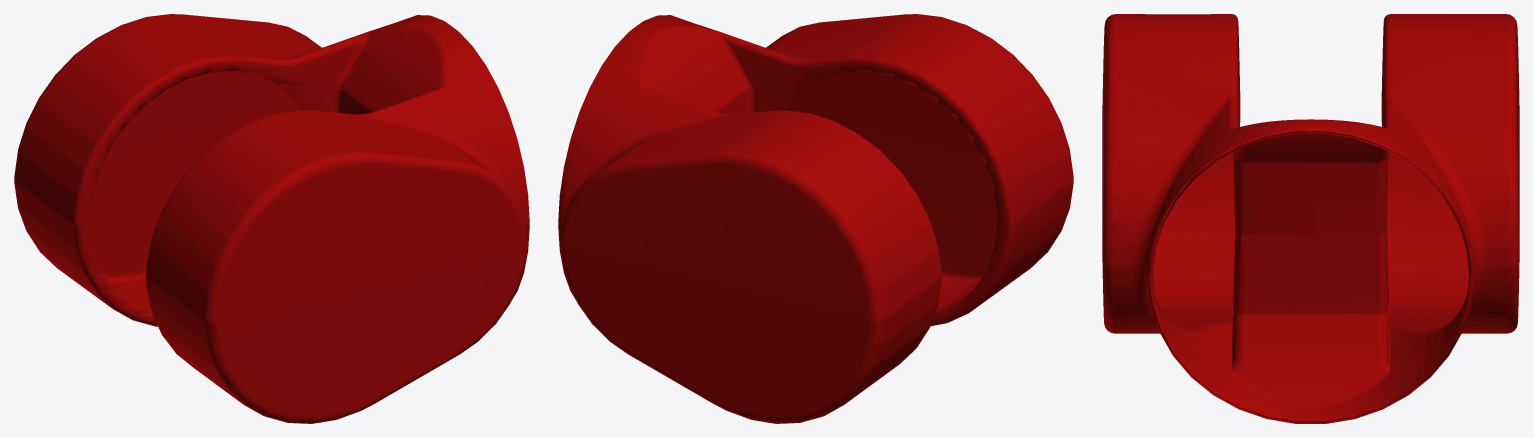
3 views of the same model, side by side, from view 1: azimuth 30°, elevation 25°; view 2: azimuth 150°, elevation 25°; view 3: azimuth 270°, elevation 25° (orthographic). The views are drawn at different scales.
Bounding box in the file's own units: 0.1938 × 0.1524 × 0.195.
